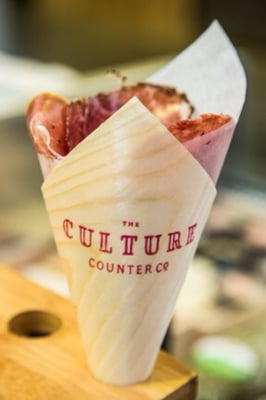pizza: (37, 82, 228, 391)
